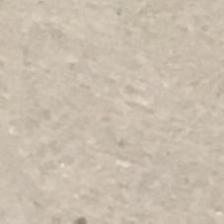Non_Crack: (12, 19, 224, 202)
